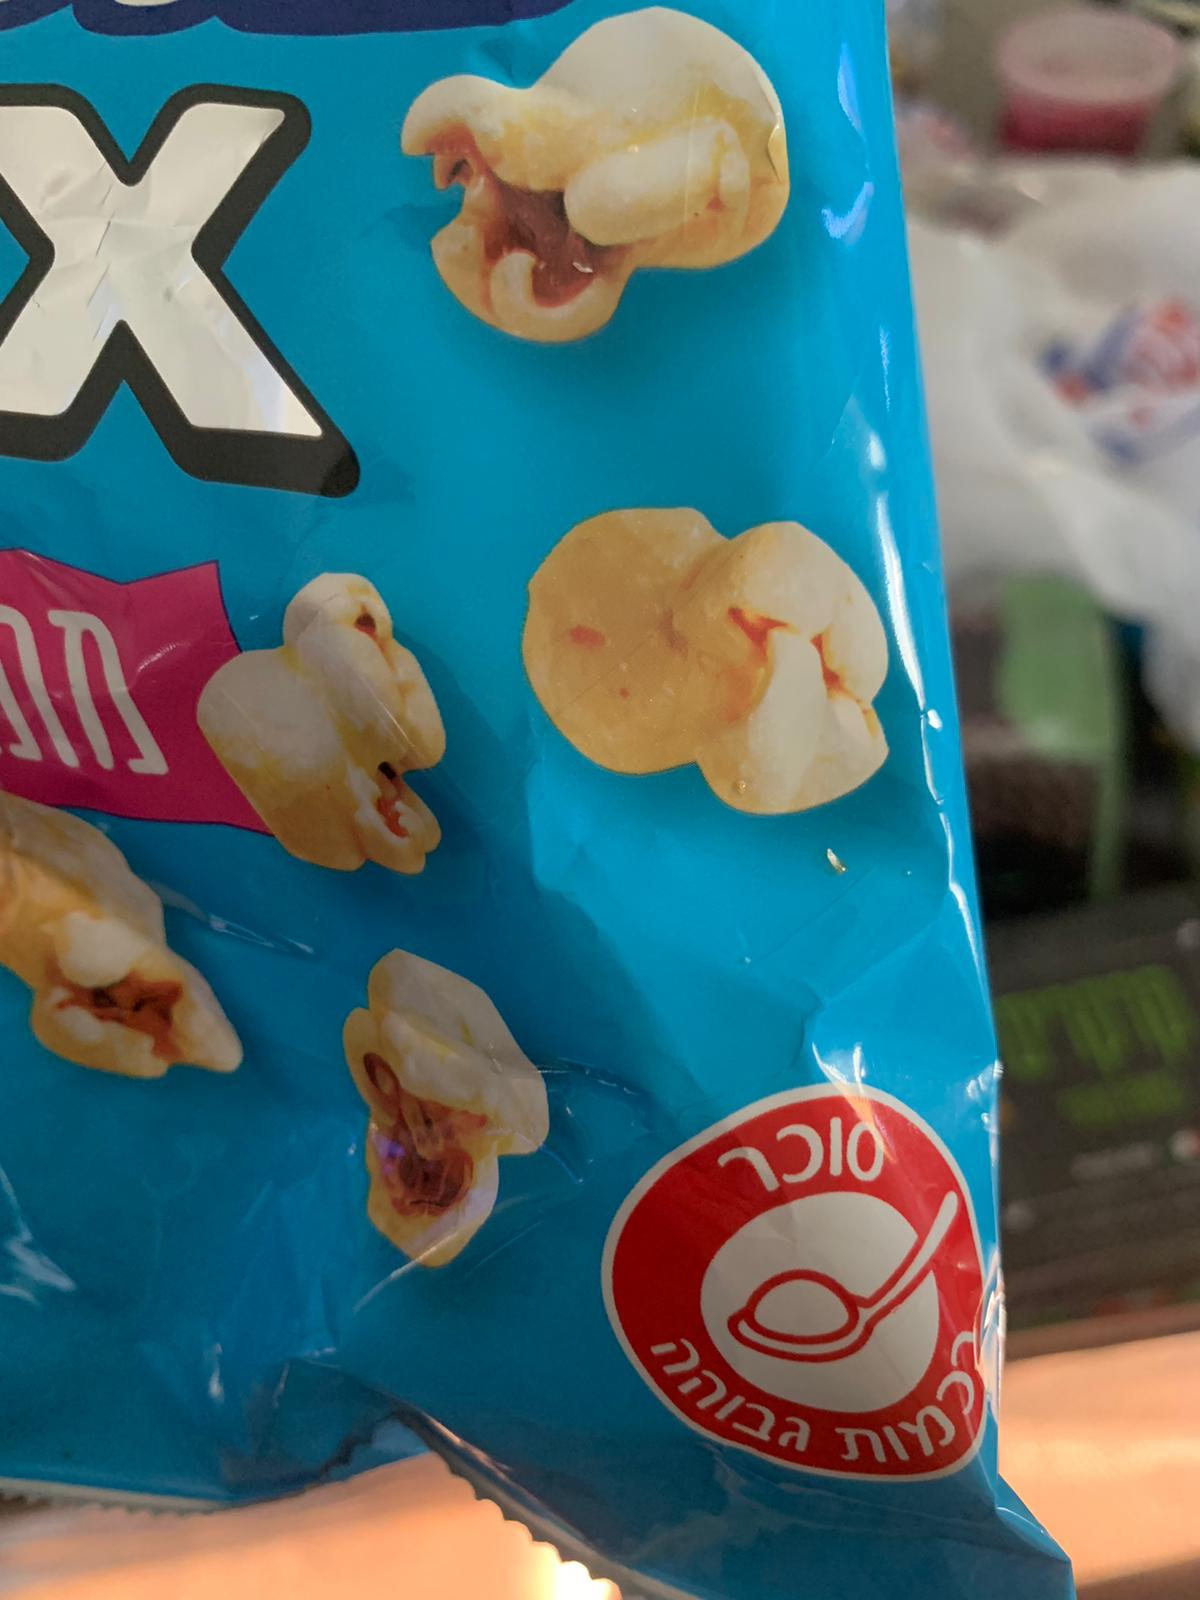sugar: (603, 1086, 989, 1490)
